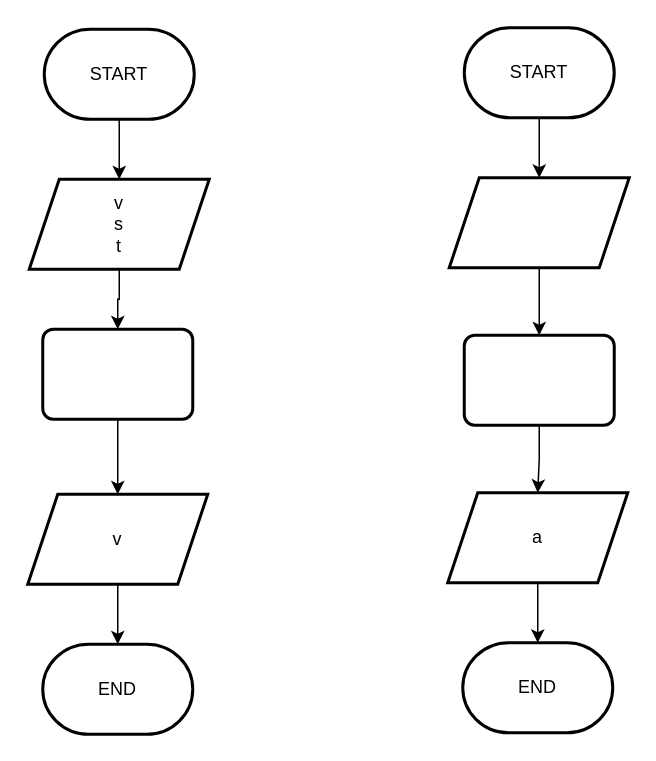
The diagram is 656 pixels wide and 761 high, and some of its shapes have lost their labels. Each missing label, with the centre of its shape:
a = (v1-v0)t: (538,379)
a v0 v1 t: (538,222)
v = s/t: (117,373)
